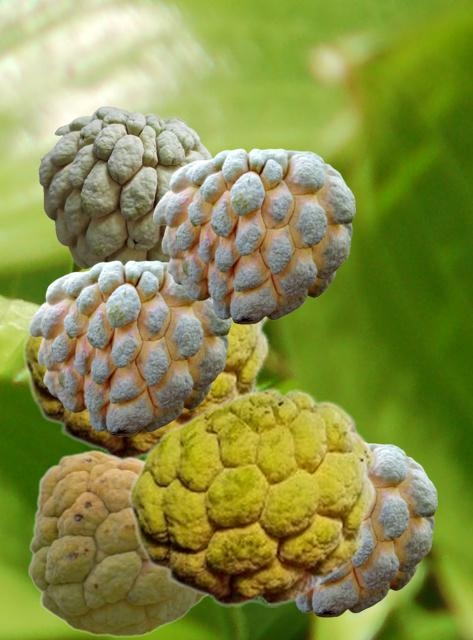atis: (127, 387, 375, 606), (21, 269, 269, 457), (29, 260, 230, 435), (153, 148, 354, 323), (27, 449, 206, 636), (38, 106, 212, 269), (295, 443, 436, 616)
